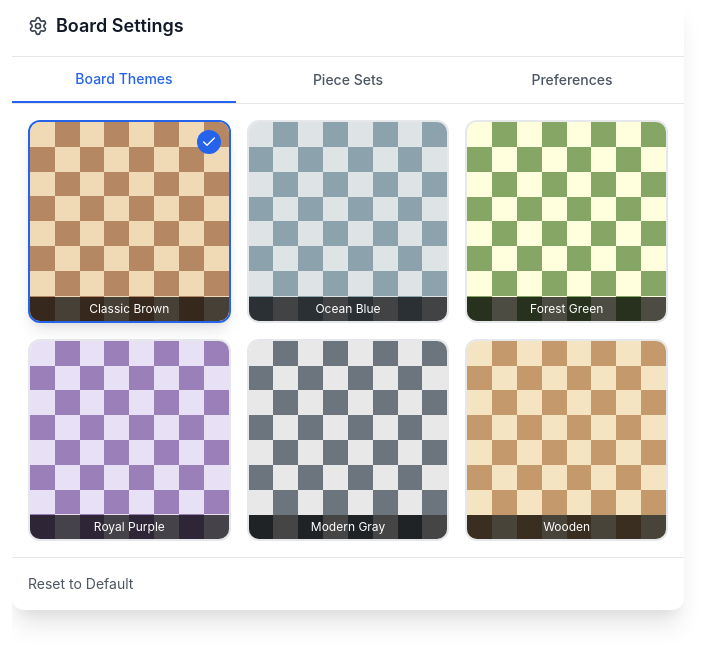
BoardSettings › displays all piece sets
This screenshot has width=701, height=670.
Click the button "Piece Sets".
click(348, 80)  # box [236,57,460,103]
(page scrolled)
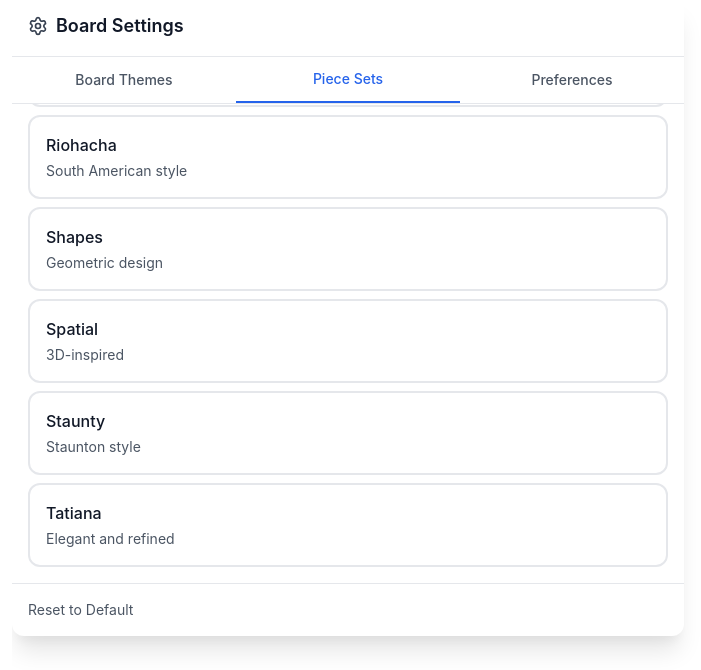
Expected: the text "Riohacha" is shown, [46,135,117,155]
Expected: the text "Shapes" is shown, [46,227,103,247]
Expected: the text "Spatial" is shown, [46,319,98,339]
